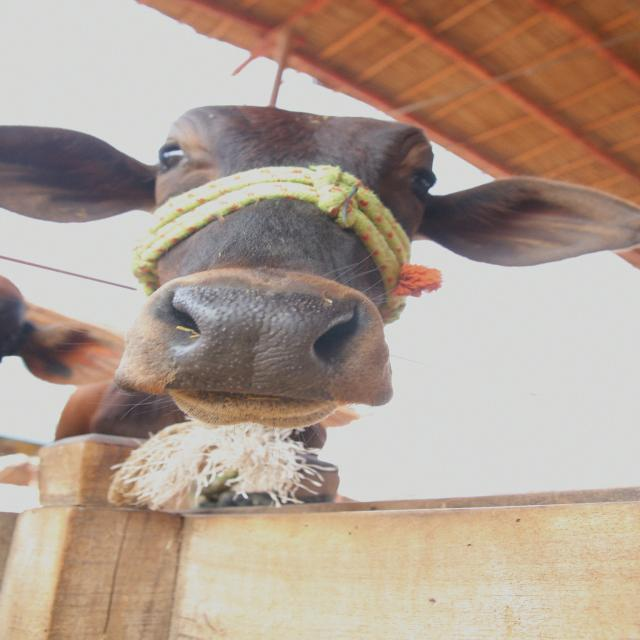muzzles: (139, 277, 371, 414)
